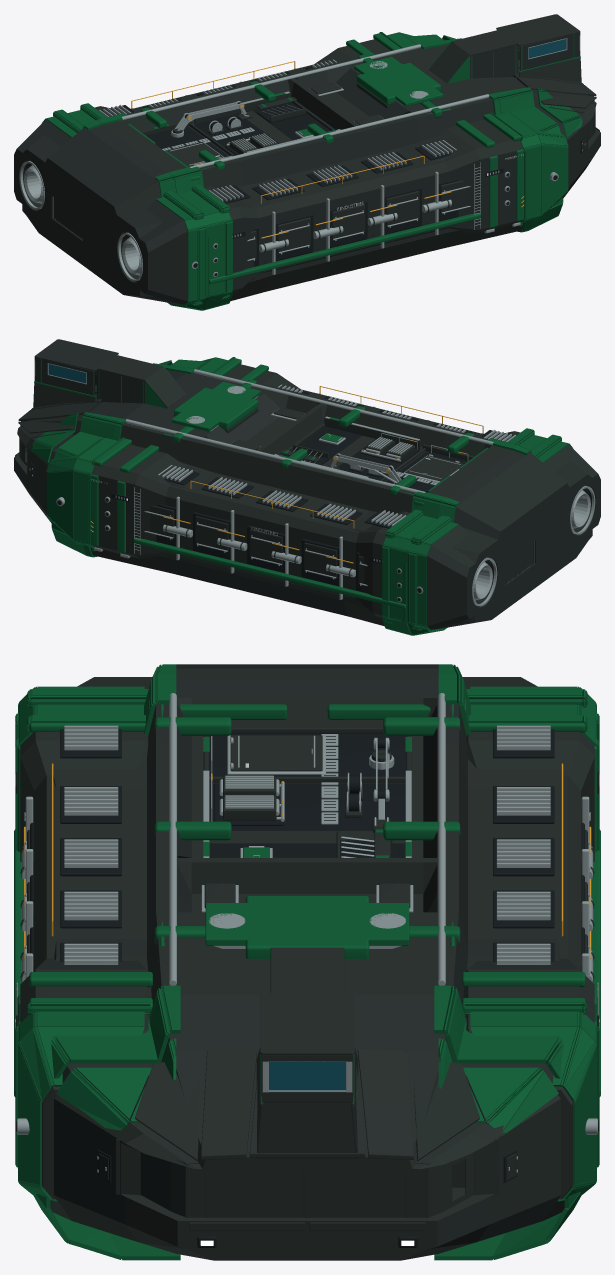
Rendered from pioneer.glb.
3 renders of one model, top to bottom at view 1: azimuth 30°, elevation 25°; view 2: azimuth 150°, elevation 25°; view 3: azimuth 270°, elevation 25°, orthographic. The views are drawn at different scales.
Visible parts, largest first — view 1: Pioneer saved-master body; view 2: Pioneer saved-master body; view 3: Pioneer saved-master body.
Part boxes in pixels (x1,y1,x2,y2): Pioneer saved-master body: (14,14,600,310); Pioneer saved-master body: (14,339,600,635); Pioneer saved-master body: (14,664,600,1260).
Size of the model in its own units: 72 by 20.35 by 38.
